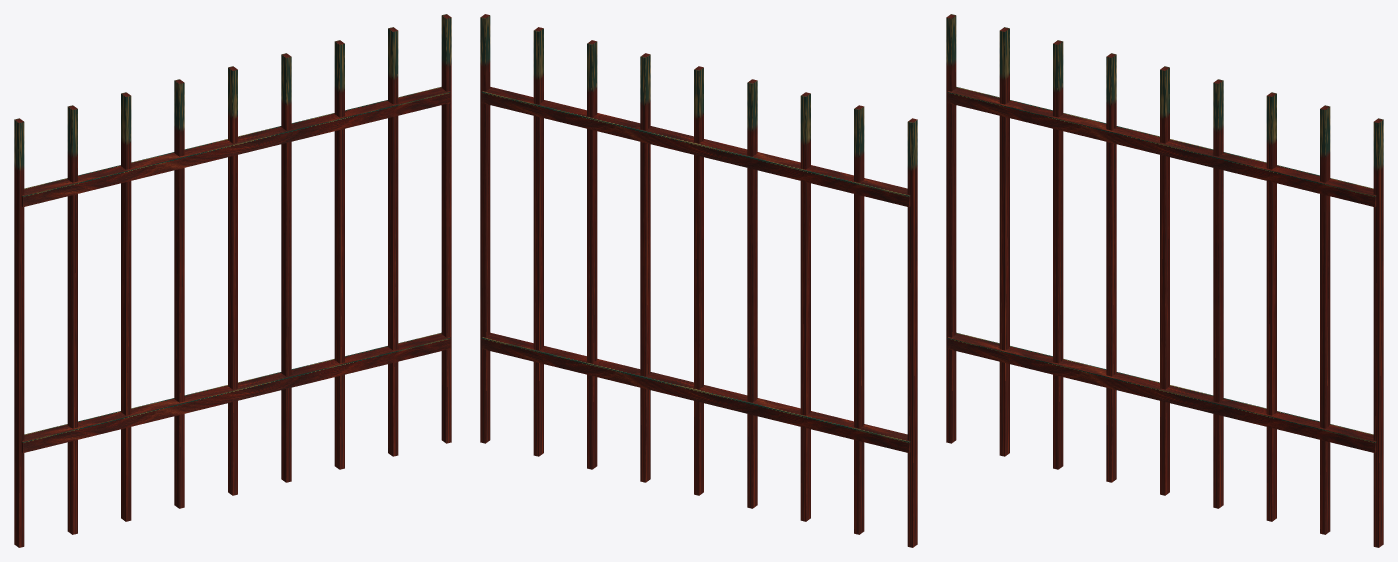
The model's file is fence-panel.gltf.
3 renders of one model, left to right at view 1: azimuth 30°, elevation 25°; view 2: azimuth 150°, elevation 25°; view 3: azimuth 330°, elevation 25°, orthographic.
Visible parts, largest first — view 1: kit:0:furniture:bronze:; view 2: kit:0:furniture:bronze:; view 3: kit:0:furniture:bronze:.
Part boxes in pixels (x1,y1,x2,y2): kit:0:furniture:bronze:: (14,14,451,547); kit:0:furniture:bronze:: (480,14,917,547); kit:0:furniture:bronze:: (946,14,1383,547).
Size of the model in its own units: 2.03 by 1.9 by 0.06.
Materials: 1 (1 with a texture image).
